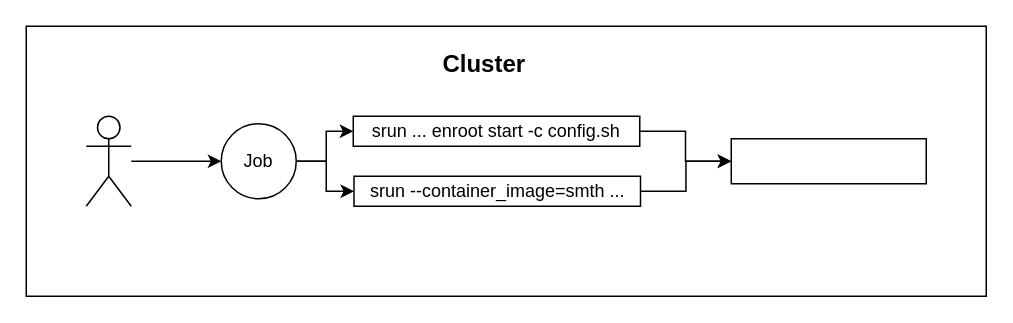
This 1013x323 diagram has some shape labels left out. The box of each missing label's shape, as (x1, y1, x2, y2) in pixels:
An interested person: (85, 115, 131, 206)
Output Files: (730, 137, 926, 184)
